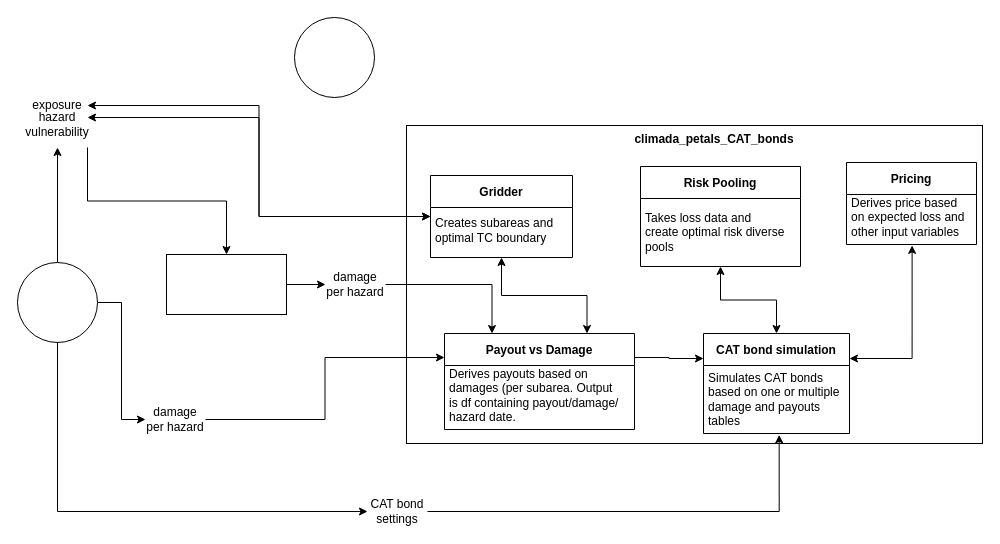
Some shapes in this 1000 by 544 pixel diagram are drawn without their labels. The centre of each missing label's shape, as x and y in pixels:
climada_core: [226,284]
User: [57,302]
User storage: [334,57]
